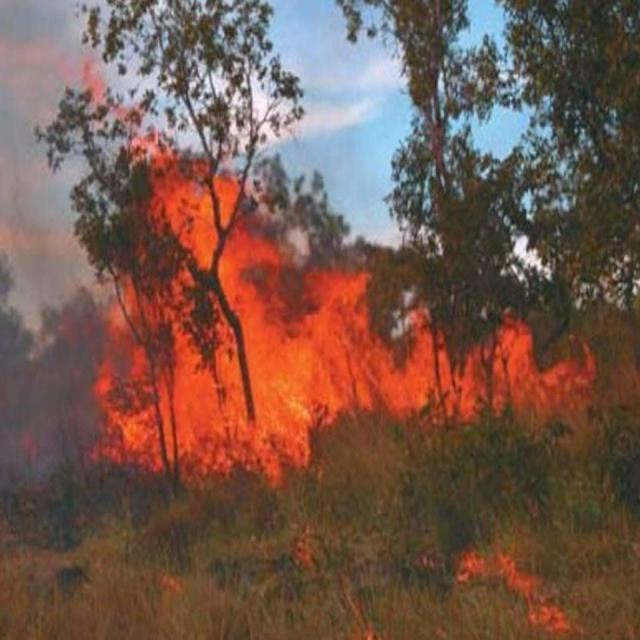Fire: (80, 54, 600, 488), (456, 547, 573, 635)
Smoke: (1, 1, 132, 491)
